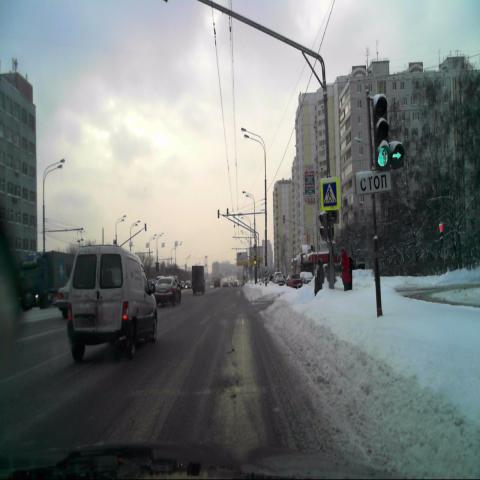6_16: (356, 169, 391, 194)
